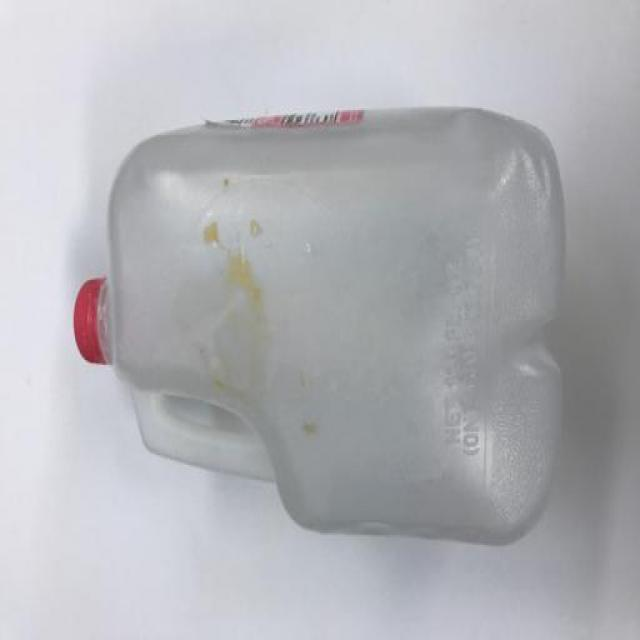plastic_bottle: (55, 97, 616, 640)
